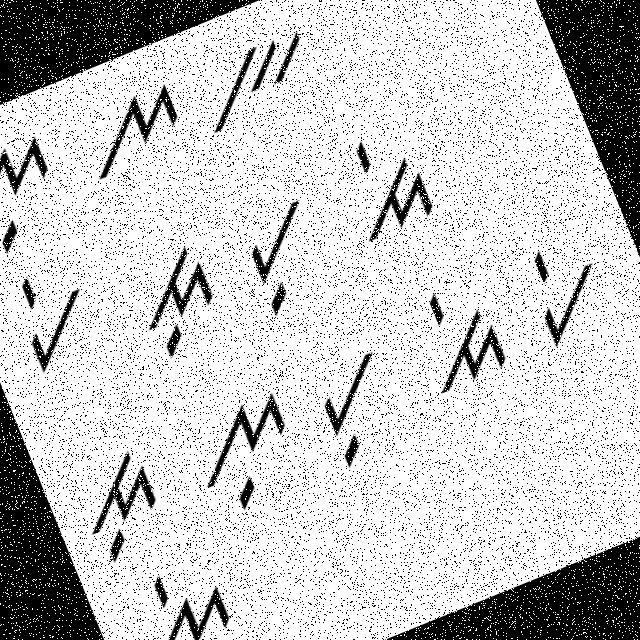de: (318, 116, 452, 259), (399, 276, 516, 404)
du: (106, 226, 237, 374), (58, 442, 178, 572)
na: (70, 74, 200, 196)
ne: (109, 549, 253, 639)
nu: (173, 385, 315, 526), (0, 127, 80, 275)
pe: (512, 230, 625, 356), (0, 255, 113, 380)
pu: (223, 192, 345, 328), (298, 340, 420, 474)
